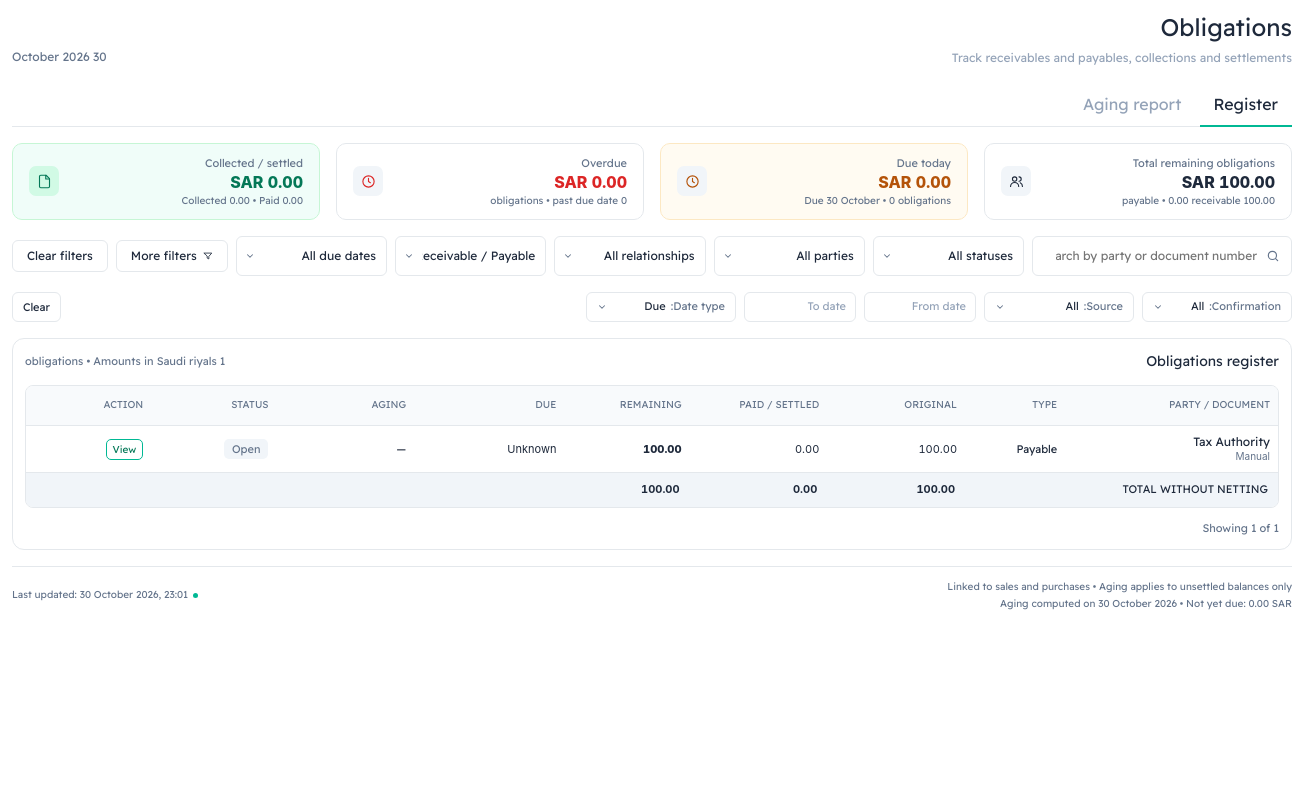
Test case: D1/G5 government payment details UI › leaves history unchanged when no details were stored
This screenshot has width=1304, height=785.
Click the cell "Tax Authority Manual": [1172, 449] box [1065,426,1278,473]
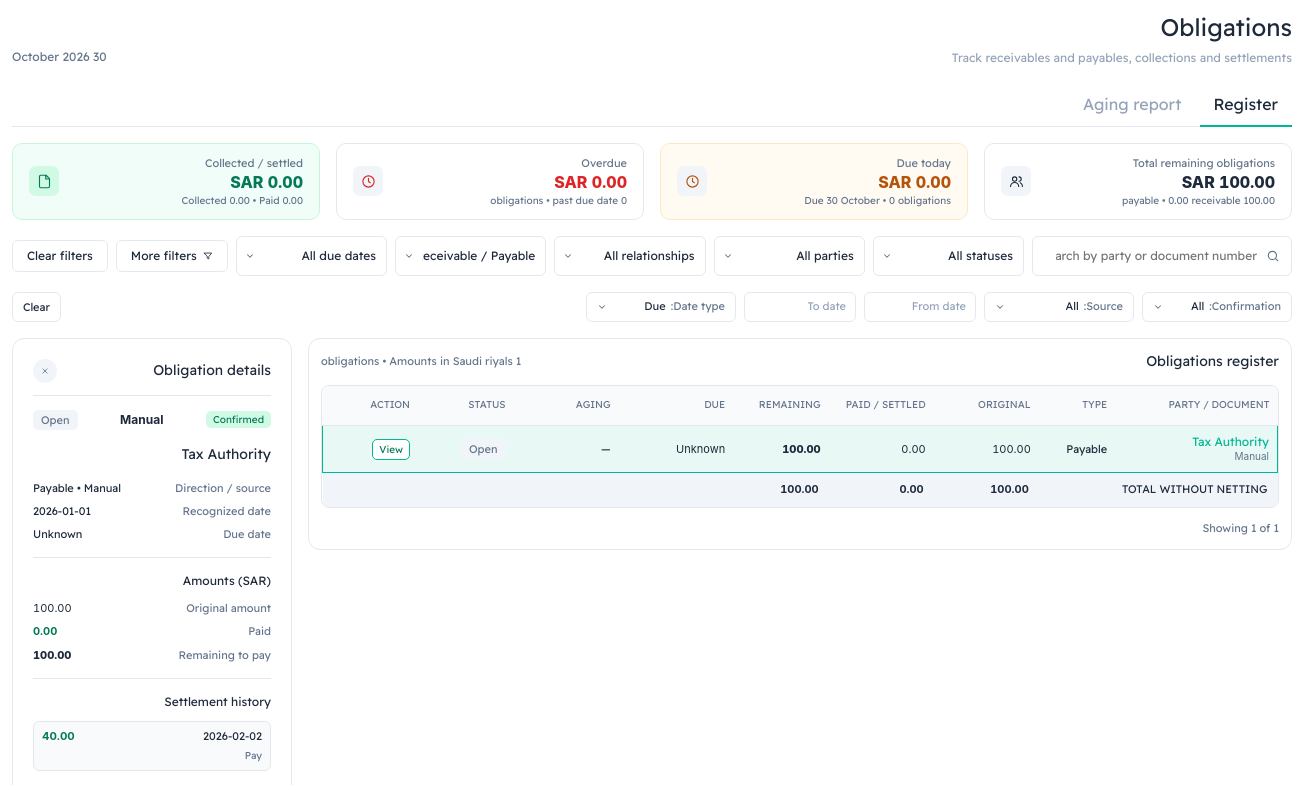
Now the text "Pay" is shown, box [245,748,262,764]
